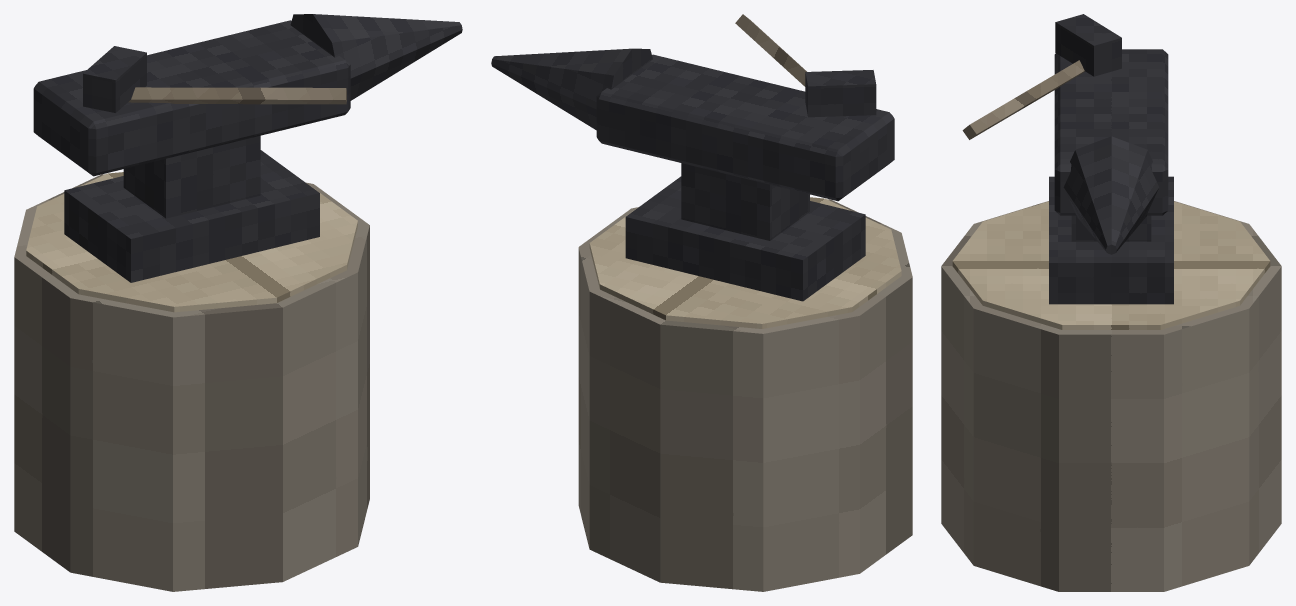
File: anvil_stump.glb
The picture shows the model from 3 angles, left to right: view 1: azimuth 30°, elevation 25°; view 2: azimuth 150°, elevation 25°; view 3: azimuth 270°, elevation 25°; orthographic projection. The views are drawn at different scales.
Visible parts, largest first — view 1: body; view 2: body; view 3: body.
Part boxes in pixels (x1,y1,x2,y2): body: (14, 14, 462, 591); body: (491, 14, 912, 591); body: (941, 14, 1281, 591).
Size of the model in its own units: 0.7953 by 0.88 by 0.6.
Materials: 4 (4 with a texture image).
